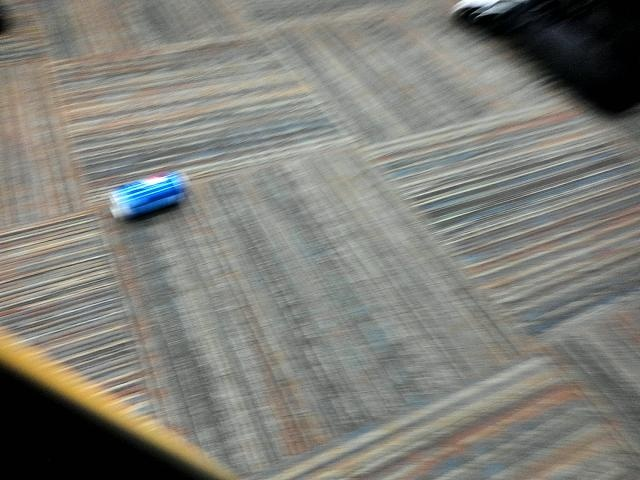can: (105, 166, 200, 219)
